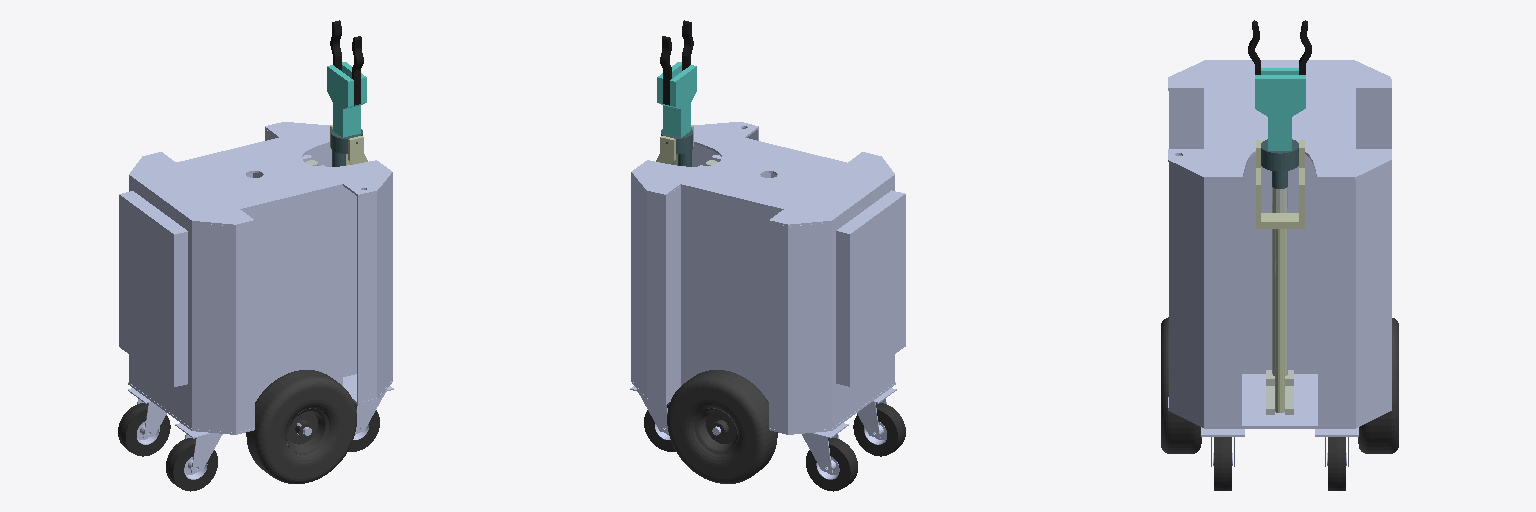
The robot description file, URDF, robot "valter":
<robot
  name="valter">
  <link
    name="Base">
    <inertial>
      <origin
        xyz="-0.0857715206977578 0.00202750279877116 0.417759281041388"
        rpy="0 0 0" />
      <mass
        value="12.6233325032135" />
      <inertia
        ixx="0.622457706177705"
        ixy="0.00684983540071118"
        ixz="-0.0806846238754764"
        iyy="0.914165189645381"
        iyz="0.000877831452103835"
        izz="0.635271744172888" />
    </inertial>
    <visual>
      <origin
        xyz="0 0 0"
        rpy="0 0 0" />
      <geometry>
        <mesh
          filename="package://valter/meshes/Base.STL" />
      </geometry>
      <material
        name="">
        <color
          rgba="0.796078431372549 0.823529411764706 0.937254901960784 1" />
      </material>
    </visual>
    <collision>
      <origin
        xyz="0 0 0"
        rpy="0 0 0" />
      <geometry>
        <mesh
          filename="package://valter/meshes/Base.STL" />
      </geometry>
    </collision>
  </link>
  <link
    name="RWheel">
    <inertial>
      <origin
        xyz="-5.908901840046E-18 -0.04 2.77555756156289E-17"
        rpy="0 0 0" />
      <mass
        value="3.62031355964479" />
      <inertia
        ixx="0.020659903156417"
        ixy="1.44560289664734E-19"
        ixz="7.49879891330915E-37"
        iyy="0.0378846933725851"
        iyz="-4.56881253081795E-35"
        izz="0.020659903156417" />
    </inertial>
    <visual>
      <origin
        xyz="0 0 0"
        rpy="0 0 0" />
      <geometry>
        <mesh
          filename="package://valter/meshes/RWheel.STL" />
      </geometry>
      <material
        name="">
        <color
          rgba="0.294117647058824 0.294117647058824 0.294117647058824 1" />
      </material>
    </visual>
    <collision>
      <origin
        xyz="0 0 0"
        rpy="0 0 0" />
      <geometry>
        <mesh
          filename="package://valter/meshes/RWheel.STL" />
      </geometry>
    </collision>
  </link>
  <joint
    name="RWheelAxis"
    type="continuous">
    <origin
      xyz="0.000341577688738742 -0.153675665570238 0.14"
      rpy="-6.12303176911189E-17 0 0" />
    <parent
      link="Base" />
    <child
      link="RWheel" />
    <axis
      xyz="0 1 0" />
  </joint>
  <link
    name="rwheel_centers">
    <inertial>
      <origin
        xyz="-8.13151629364128E-19 0.032994484499226 0"
        rpy="0 0 0" />
      <mass
        value="0.0783773140784392" />
      <inertia
        ixx="5.85727895452634E-05"
        ixy="-9.93439486155922E-22"
        ixz="6.74972677106586E-22"
        iyy="7.03620982427163E-05"
        iyz="5.91608801681983E-21"
        izz="5.85727895452635E-05" />
    </inertial>
    <visual>
      <origin
        xyz="0 0 0"
        rpy="0 0 0" />
      <geometry>
        <mesh
          filename="package://valter/meshes/rwheel_centers.STL" />
      </geometry>
      <material
        name="">
        <color
          rgba="0.796078431372549 0.823529411764706 0.937254901960784 1" />
      </material>
    </visual>
    <collision>
      <origin
        xyz="0 0 0"
        rpy="0 0 0" />
      <geometry>
        <mesh
          filename="package://valter/meshes/rwheel_centers.STL" />
      </geometry>
    </collision>
  </link>
  <joint
    name="rwheel_centers_fixed"
    type="fixed">
    <origin
      xyz="0 -0.00181724367610836 0"
      rpy="3.14159265358979 0 0" />
    <parent
      link="RWheel" />
    <child
      link="rwheel_centers" />
    <axis
      xyz="0 1 0" />
  </joint>
  <link
    name="LWheel">
    <inertial>
      <origin
        xyz="-2.77555756156289E-17 -0.04 2.77555756156289E-17"
        rpy="0 0 0" />
      <mass
        value="3.62031355964479" />
      <inertia
        ixx="0.020659903156417"
        ixy="-3.72702116811453E-19"
        ixz="-4.33680868994202E-19"
        iyy="0.0378846933725851"
        iyz="-7.63027965878358E-20"
        izz="0.020659903156417" />
    </inertial>
    <visual>
      <origin
        xyz="0 0 0"
        rpy="0 0 0" />
      <geometry>
        <mesh
          filename="package://valter/meshes/LWheel.STL" />
      </geometry>
      <material
        name="">
        <color
          rgba="0.294117647058824 0.294117647058824 0.294117647058824 1" />
      </material>
    </visual>
    <collision>
      <origin
        xyz="0 0 0"
        rpy="0 0 0" />
      <geometry>
        <mesh
          filename="package://valter/meshes/LWheel.STL" />
      </geometry>
    </collision>
  </link>
  <joint
    name="LWheelAxis"
    type="continuous">
    <origin
      xyz="0.000341577688738742 0.154324334429763 0.14"
      rpy="6.6286088844449E-17 0.39309481042652 -3.14159265358979" />
    <parent
      link="Base" />
    <child
      link="LWheel" />
    <axis
      xyz="0 -1 0" />
  </joint>
  <link
    name="lwheel_centers">
    <inertial>
      <origin
        xyz="-1.38777878078145E-17 -0.032994484499226 0"
        rpy="0 0 0" />
      <mass
        value="0.0783773140784395" />
      <inertia
        ixx="5.85727895452638E-05"
        ixy="6.79585568242382E-21"
        ixz="3.3881317890172E-21"
        iyy="7.03620982427167E-05"
        iyz="1.67632102109803E-20"
        izz="5.85727895452638E-05" />
    </inertial>
    <visual>
      <origin
        xyz="0 0 0"
        rpy="0 0 0" />
      <geometry>
        <mesh
          filename="package://valter/meshes/lwheel_centers.STL" />
      </geometry>
      <material
        name="">
        <color
          rgba="0.796078431372549 0.823529411764706 0.937254901960784 1" />
      </material>
    </visual>
    <collision>
      <origin
        xyz="0 0 0"
        rpy="0 0 0" />
      <geometry>
        <mesh
          filename="package://valter/meshes/lwheel_centers.STL" />
      </geometry>
    </collision>
  </link>
  <joint
    name="lwheel_centers_fixed"
    type="fixed">
    <origin
      xyz="0 -0.00181724367610836 0"
      rpy="0 -1.66371525153719E-34 0" />
    <parent
      link="LWheel" />
    <child
      link="lwheel_centers" />
    <axis
      xyz="0 1 0" />
  </joint>
  <link
    name="support_wheels">
    <inertial>
      <origin
        xyz="-0.219066879644595 -1.38777878078145E-17 -0.111817164878115"
        rpy="0 0 0" />
      <mass
        value="1.30791131979034" />
      <inertia
        ixx="0.0180362608696526"
        ixy="-1.32542149329189E-18"
        ixz="0"
        iyy="0.0808033145464291"
        iyz="3.38263990177013E-19"
        izz="0.0658583097429299" />
    </inertial>
    <visual>
      <origin
        xyz="0 0 0"
        rpy="0 0 0" />
      <geometry>
        <mesh
          filename="package://valter/meshes/support_wheels.STL" />
      </geometry>
      <material
        name="">
        <color
          rgba="0.250980392156863 0.250980392156863 0.250980392156863 1" />
      </material>
    </visual>
    <collision>
      <origin
        xyz="0 0 0"
        rpy="0 0 0" />
      <geometry>
        <mesh
          filename="package://valter/meshes/support_wheels.STL" />
      </geometry>
    </collision>
  </link>
  <joint
    name="support_wheels_fixed"
    type="fixed">
    <origin
      xyz="0.189234607270609 -0.11129709785824 0.0679256801186866"
      rpy="1.5707963267949 0 0" />
    <parent
      link="Base" />
    <child
      link="support_wheels" />
    <axis
      xyz="0 0 0" />
  </joint>
  <link
    name="support_wheels_centers">
    <inertial>
      <origin
        xyz="-0.219066879644595 1.38777878078145E-17 0.110556114336065"
        rpy="0 0 0" />
      <mass
        value="0.101015328916835" />
      <inertia
        ixx="0.00129045558161767"
        ixy="-9.77029153679058E-20"
        ixz="-3.3881317890172E-19"
        iyy="0.00613821129438006"
        iyz="4.09724133506638E-20"
        izz="0.00487802902064206" />
    </inertial>
    <visual>
      <origin
        xyz="0 0 0"
        rpy="0 0 0" />
      <geometry>
        <mesh
          filename="package://valter/meshes/support_wheels_centers.STL" />
      </geometry>
      <material
        name="">
        <color
          rgba="0.796078431372549 0.823529411764706 0.937254901960784 1" />
      </material>
    </visual>
    <collision>
      <origin
        xyz="0 0 0"
        rpy="0 0 0" />
      <geometry>
        <mesh
          filename="package://valter/meshes/support_wheels_centers.STL" />
      </geometry>
    </collision>
  </link>
  <joint
    name="support_wheels_centers_fixed"
    type="fixed">
    <origin
      xyz="0 0 -0.222438597166117"
      rpy="0 0 0" />
    <parent
      link="support_wheels" />
    <child
      link="support_wheels_centers" />
    <axis
      xyz="0 0 0" />
  </joint>
  <link
    name="ManipulatorBase">
    <inertial>
      <origin
        xyz="0.0757274431880703 -0.00904190076144362 -0.035"
        rpy="0 0 0" />
      <mass
        value="0.178834143520891" />
      <inertia
        ixx="0.000174752266227878"
        ixy="3.75007914498888E-21"
        ixz="-2.30189996267457E-20"
        iyy="0.000407098672925193"
        iyz="3.53103137965607E-21"
        izz="0.000259421347673262" />
    </inertial>
    <visual>
      <origin
        xyz="0 0 0"
        rpy="0 0 0" />
      <geometry>
        <mesh
          filename="package://valter/meshes/ManipulatorBase.STL" />
      </geometry>
      <material
        name="">
        <color
          rgba="0.796078431372549 0.823529411764706 0.937254901960784 1" />
      </material>
    </visual>
    <collision>
      <origin
        xyz="0 0 0"
        rpy="0 0 0" />
      <geometry>
        <mesh
          filename="package://valter/meshes/ManipulatorBase.STL" />
      </geometry>
    </collision>
  </link>
  <joint
    name="ManipulatorBaseFixed"
    type="fixed">
    <origin
      xyz="0.157269945428792 0.0354609509421621 0.707041900761443"
      rpy="1.5707963267949 0 3.14159265358979" />
    <parent
      link="Base" />
    <child
      link="ManipulatorBase" />
    <axis
      xyz="0 0 0" />
  </joint>
  <link
    name="ManipulatorLink1">
    <inertial>
      <origin
        xyz="0.0084271 -0.29887 0.034995"
        rpy="0 0 0" />
      <mass
        value="0.47801" />
      <inertia
        ixx="0.013436"
        ixy="-0.00089216"
        ixz="-1.6445E-10"
        iyy="0.0004086"
        iyz="5.7508E-09"
        izz="0.013731" />
    </inertial>
    <visual>
      <origin
        xyz="0 0 0"
        rpy="0 0 0" />
      <geometry>
        <mesh
          filename="package://valter/meshes/ManipulatorLink1.STL" />
      </geometry>
      <material
        name="">
        <color
          rgba="0.79216 0.81961 0.8 1" />
      </material>
    </visual>
    <collision>
      <origin
        xyz="0 0 0"
        rpy="0 0 0" />
      <geometry>
        <mesh
          filename="package://valter/meshes/ManipulatorLink1.STL" />
      </geometry>
    </collision>
  </link>
  <joint
    name="ManipulatorLink1Axis"
    type="revolute">
    <origin
      xyz="0.015824 -0.0090419 0"
      rpy="3.1416 0 3.1416" />
    <parent
      link="ManipulatorBase" />
    <child
      link="ManipulatorLink1" />
    <axis
      xyz="0 0 -1" />
    <limit
      lower="-1.5"
      upper="0"
      effort="0"
      velocity="0" />
  </joint>
  <link
    name="ManipulatorLink2">
    <inertial>
      <origin
        xyz="-0.0019648 0.34838 0.034995"
        rpy="0 0 0" />
      <mass
        value="0.30452" />
      <inertia
        ixx="0.0077703"
        ixy="-0.00010965"
        ixz="-4.7931E-12"
        iyy="0.000301"
        iyz="2.8093E-10"
        izz="0.007534" />
    </inertial>
    <visual>
      <origin
        xyz="0 0 0"
        rpy="0 0 0" />
      <geometry>
        <mesh
          filename="package://valter/meshes/ManipulatorLink2.STL" />
      </geometry>
      <material
        name="">
        <color
          rgba="0.79216 0.81961 0.7 1" />
      </material>
    </visual>
    <collision>
      <origin
        xyz="0 0 0"
        rpy="0 0 0" />
      <geometry>
        <mesh
          filename="package://valter/meshes/ManipulatorLink2.STL" />
      </geometry>
    </collision>
  </link>
  <joint
    name="ManipulatorLink2Axis"
    type="revolute">
    <origin
      xyz="0.10656 -0.49054 0"
      rpy="0 0 0" />
    <parent
      link="ManipulatorLink1" />
    <child
      link="ManipulatorLink2" />
    <axis
      xyz="0 0 -1" />
    <limit
      lower="0"
      upper="1.5"
      effort="0"
      velocity="0" />
  </joint>
  <link
    name="ManipulatorLink3">
    <inertial>
      <origin
        xyz="-0.0046526 -0.021945 0.034995"
        rpy="0 0 0" />
      <mass
        value="0.22788" />
      <inertia
        ixx="0.00019702"
        ixy="4.0348E-05"
        ixz="-2.4752E-12"
        iyy="0.00015328"
        iyz="3.0548E-12"
        izz="0.00021369" />
    </inertial>
    <visual>
      <origin
        xyz="0 0 0"
        rpy="0 0 0" />
      <geometry>
        <mesh
          filename="package://valter/meshes/ManipulatorLink3.STL" />
      </geometry>
      <material
        name="">
        <color
          rgba="0.32157 0.43137 0.4549 1" />
      </material>
    </visual>
    <collision>
      <origin
        xyz="0 0 0"
        rpy="0 0 0" />
      <geometry>
        <mesh
          filename="package://valter/meshes/ManipulatorLink3.STL" />
      </geometry>
    </collision>
  </link>
  <joint
    name="ManipulatorLink3Axis"
    type="revolute">
    <origin
      xyz="-0.012962 0.55415 0"
      rpy="0 0 0" />
    <parent
      link="ManipulatorLink2" />
    <child
      link="ManipulatorLink3" />
    <axis
      xyz="0 0 -1" />
    <limit
      lower="0"
      upper="1"
      effort="0"
      velocity="0" />
  </joint>
  <link
    name="ManipulatorLink4">
    <inertial>
      <origin
        xyz="-2.2732E-05 0.083954 0"
        rpy="0 0 0" />
      <mass
        value="0.42935" />
      <inertia
        ixx="0.00093594"
        ixy="4.2609E-07"
        ixz="9.132E-21"
        iyy="0.00033918"
        iyz="1.5845E-19"
        izz="0.0010509" />
    </inertial>
    <visual>
      <origin
        xyz="0 0 0"
        rpy="0 0 0" />
      <geometry>
        <mesh
          filename="package://valter/meshes/ManipulatorLink4.STL" />
      </geometry>
      <material
        name="">
        <color
          rgba="0.4 0.82353 0.8 1" />
      </material>
    </visual>
    <collision>
      <origin
        xyz="0 0 0"
        rpy="0 0 0" />
      <geometry>
        <mesh
          filename="package://valter/meshes/ManipulatorLink4.STL" />
      </geometry>
    </collision>
  </link>
  <joint
    name="ManipulatorLink4Axis"
    type="revolute">
    <origin
      xyz="0 0.008 0.034995"
      rpy="0 1.5708 0" />
    <parent
      link="ManipulatorLink3" />
    <child
      link="ManipulatorLink4" />
    <axis
      xyz="0 -1 0" />
    <limit
      lower="-3"
      upper="3"
      effort="0"
      velocity="0" />
  </joint>
  <link
    name="GripperL">
    <inertial>
      <origin
        xyz="0.0029778 0.087145 -0.0098651"
        rpy="0 0 0" />
      <mass
        value="0.039858" />
      <inertia
        ixx="0.00010179"
        ixy="-4.7356E-06"
        ixz="-2.1627E-22"
        iyy="2.3271E-06"
        iyz="1.1485E-21"
        izz="0.00010172" />
    </inertial>
    <visual>
      <origin
        xyz="0 0 0"
        rpy="0 0 0" />
      <geometry>
        <mesh
          filename="package://valter/meshes/GripperL.STL" />
      </geometry>
      <material
        name="">
        <color
          rgba="0.15686 0.15686 0.15686 1" />
      </material>
    </visual>
    <collision>
      <origin
        xyz="0 0 0"
        rpy="0 0 0" />
      <geometry>
        <mesh
          filename="package://valter/meshes/GripperL.STL" />
      </geometry>
    </collision>
  </link>
  <joint
    name="GripperLAxis"
    type="prismatic">
    <origin
      xyz="0.049892 0.090686 -0.0096825"
      rpy="3.1416 -6.9389E-17 -3.1416" />
    <parent
      link="ManipulatorLink4" />
    <child
      link="GripperL" />
    <axis
      xyz="-1 0 0" />
    <limit
      lower="-0.03"
      upper="0"
      effort="0"
      velocity="0" />
  </joint>
  <link
    name="GripperR">
    <inertial>
      <origin
        xyz="0.0029778 0.087145 0.0098651"
        rpy="0 0 0" />
      <mass
        value="0.039858" />
      <inertia
        ixx="0.00010179"
        ixy="-4.7356E-06"
        ixz="2.1438E-23"
        iyy="2.3271E-06"
        iyz="-1.4599E-21"
        izz="0.00010172" />
    </inertial>
    <visual>
      <origin
        xyz="0 0 0"
        rpy="0 0 0" />
      <geometry>
        <mesh
          filename="package://valter/meshes/GripperR.STL" />
      </geometry>
      <material
        name="">
        <color
          rgba="0.15686 0.15686 0.15686 1" />
      </material>
    </visual>
    <collision>
      <origin
        xyz="0 0 0"
        rpy="0 0 0" />
      <geometry>
        <mesh
          filename="package://valter/meshes/GripperR.STL" />
      </geometry>
    </collision>
  </link>
  <joint
    name="GripperRAxis"
    type="prismatic">
    <origin
      xyz="-0.049892 0.090686 -0.0096825"
      rpy="-4.9087E-21 6.9389E-17 1.0613E-16" />
    <parent
      link="ManipulatorLink4" />
    <child
      link="GripperR" />
    <axis
      xyz="1 0 0" />
    <limit
      lower="0"
      upper="0.03"
      effort="0"
      velocity="0" />
  </joint>
</robot>

--- Facts derived from the render (not from the file) ---
The picture shows the robot from 3 angles, left to right: view 1: azimuth 30°, elevation 25°; view 2: azimuth 150°, elevation 25°; view 3: azimuth 270°, elevation 25°; orthographic projection.
Model valter with 14 links and 13 joints (4 revolute, 2 continuous, 2 prismatic, 5 fixed), rooted at Base, posed all joints at 0.
Visible links, largest first — view 1: Base, RWheel, support_wheels, ManipulatorLink4, GripperR, support_wheels_centers, ManipulatorLink3; view 2: Base, LWheel, support_wheels, ManipulatorLink4, support_wheels_centers, GripperL, ManipulatorLink3; view 3: Base, ManipulatorLink2, ManipulatorLink4, RWheel, LWheel, ManipulatorLink1, support_wheels, ManipulatorLink3.
Boxes of the visible links, left/top/right/bottom form: Base: left=119, top=122, right=393, bottom=472; RWheel: left=246, top=370, right=356, bottom=483; support_wheels: left=118, top=402, right=379, bottom=491; ManipulatorLink4: left=327, top=62, right=366, bottom=137; GripperR: left=352, top=36, right=363, bottom=105; support_wheels_centers: left=137, top=421, right=368, bottom=479; ManipulatorLink3: left=331, top=129, right=362, bottom=166; Base: left=630, top=122, right=905, bottom=472; LWheel: left=667, top=370, right=777, bottom=483; support_wheels: left=644, top=402, right=905, bottom=491; ManipulatorLink4: left=657, top=62, right=696, bottom=137; support_wheels_centers: left=655, top=421, right=886, bottom=479; GripperL: left=660, top=36, right=671, bottom=105; ManipulatorLink3: left=661, top=129, right=692, bottom=166; Base: left=1168, top=60, right=1391, bottom=466; ManipulatorLink2: left=1256, top=140, right=1304, bottom=412; ManipulatorLink4: left=1255, top=68, right=1305, bottom=150; RWheel: left=1161, top=317, right=1201, bottom=453; LWheel: left=1358, top=318, right=1398, bottom=453; ManipulatorLink1: left=1266, top=187, right=1293, bottom=414; support_wheels: left=1214, top=437, right=1345, bottom=490; ManipulatorLink3: left=1261, top=139, right=1298, bottom=188.
Size in the robot's own frame: 0.5847 by 0.468 by 1.03 metres.
14 mesh visuals loaded from 14 distinct referenced files (14 binary STL).
